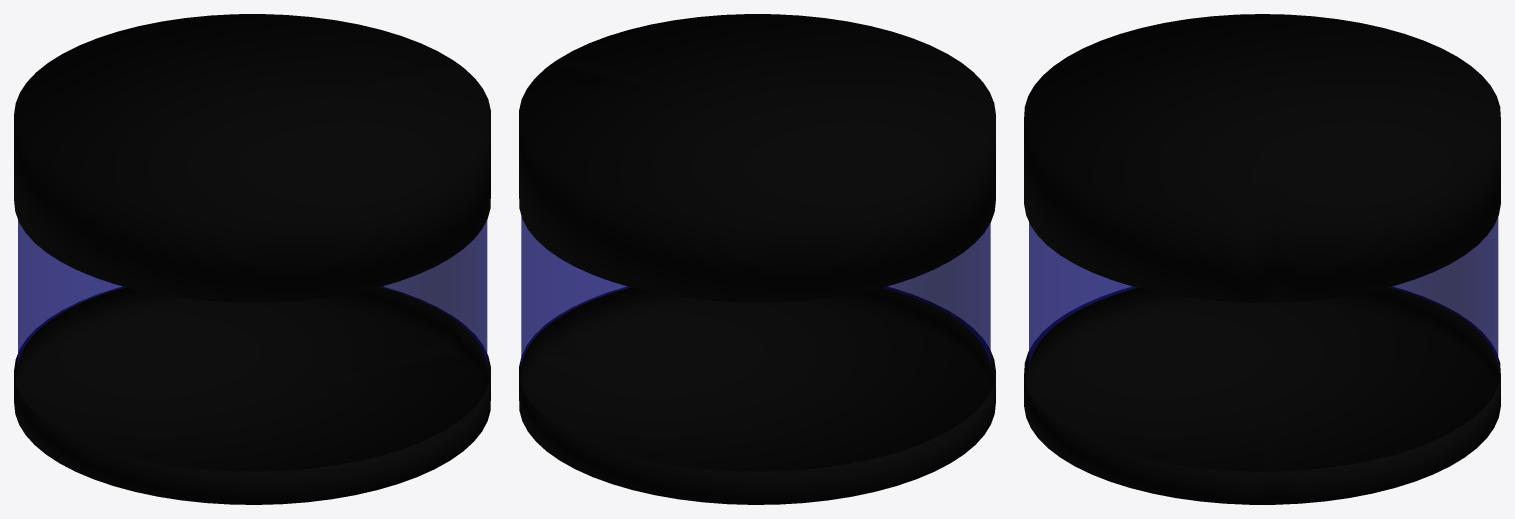
The model's file is LIDAR.dae.
3 renders of one model, left to right at view 1: azimuth 30°, elevation 25°; view 2: azimuth 150°, elevation 25°; view 3: azimuth 270°, elevation 25°, orthographic.
Visible parts, largest first — view 1: Mesh (×3); view 2: Mesh (×3); view 3: Mesh (×3).
Part boxes in pixels (bbox=[...]): Mesh (×3): bbox=[14, 14, 490, 504]; Mesh (×3): bbox=[519, 14, 995, 504]; Mesh (×3): bbox=[1024, 14, 1500, 504].
Bounding box in the file's own units: 0.109 × 0.109 × 0.073.
